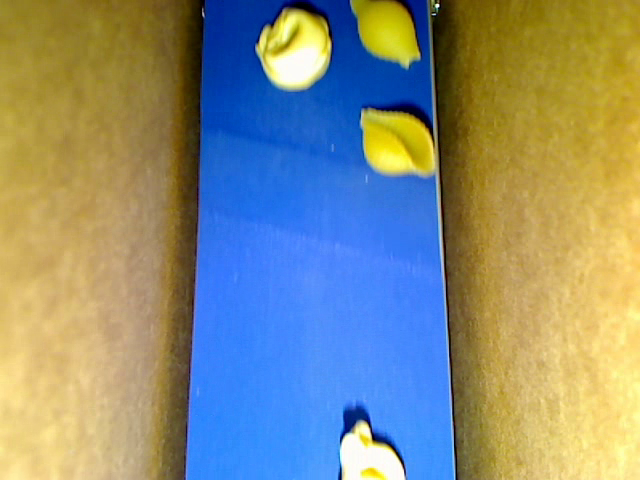shell: (359, 107, 434, 176), (350, 1, 420, 70)
tortellini: (255, 8, 330, 91), (338, 419, 404, 479)
